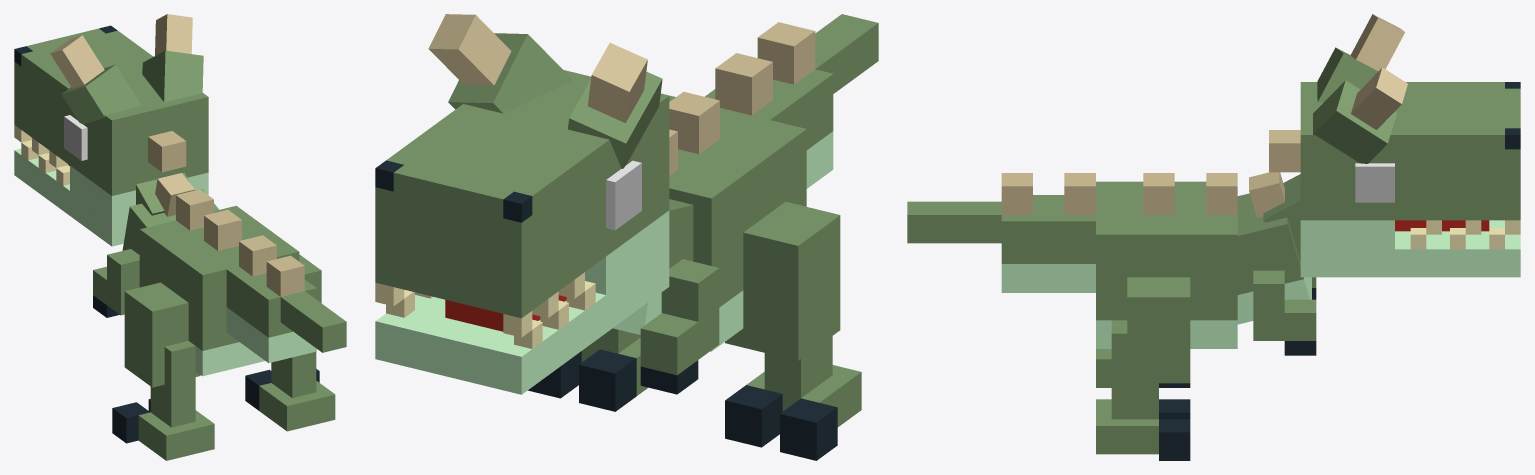
File: carnotaurus.obj
3 views of the same model, side by side, from view 1: azimuth 30°, elevation 25°; view 2: azimuth 150°, elevation 25°; view 3: azimuth 270°, elevation 25° (orthographic). The views are drawn at different scales.
Visible parts, largest first — view 1: Head, LowerTorso, Tail, LeftUpperLeg, LeftFoot, RightFoot, LeftLowerLeg, LeftUpperArm, UpperTorso, RightLowerLeg, Head_decal1, RightUpperLeg; view 2: Head, LowerTorso, Tail, LeftUpperLeg, LeftFoot, LeftUpperArm, RightFoot, LeftLowerLeg, UpperTorso, Head_decal1, RightLowerLeg; view 3: Head, LowerTorso, Tail, RightUpperLeg, UpperTorso, RightFoot, RightUpperArm, RightLowerLeg, Head_decal2, LeftFoot.
Part boxes in pixels (bbox=[...]): Head: bbox=[14, 14, 208, 246]; LowerTorso: bbox=[139, 189, 299, 376]; Tail: bbox=[226, 235, 346, 363]; LeftUpperLeg: bbox=[124, 282, 200, 387]; LeftFoot: bbox=[112, 399, 214, 460]; RightFoot: bbox=[245, 369, 335, 431]; LeftLowerLeg: bbox=[150, 341, 195, 427]; LeftUpperArm: bbox=[93, 249, 139, 317]; UpperTorso: bbox=[122, 173, 219, 254]; RightLowerLeg: bbox=[271, 351, 316, 397]; Head_decal1: bbox=[64, 117, 81, 160]; RightUpperLeg: bbox=[299, 254, 321, 302]; Head: bbox=[375, 14, 669, 394]; LowerTorso: bbox=[661, 91, 806, 351]; Tail: bbox=[705, 14, 878, 188]; LeftUpperLeg: bbox=[725, 201, 840, 360]; LeftFoot: bbox=[725, 365, 861, 460]; LeftUpperArm: bbox=[640, 259, 719, 394]; RightFoot: bbox=[528, 337, 647, 411]; LeftLowerLeg: bbox=[764, 336, 832, 398]; UpperTorso: bbox=[613, 199, 693, 334]; Head_decal1: bbox=[615, 163, 641, 229]; RightLowerLeg: bbox=[588, 328, 640, 353]; Head: bbox=[1263, 14, 1520, 277]; LowerTorso: bbox=[1096, 173, 1237, 348]; Tail: bbox=[907, 173, 1095, 292]; RightUpperLeg: bbox=[1127, 277, 1190, 383]; UpperTorso: bbox=[1237, 172, 1311, 324]; RightFoot: bbox=[1096, 399, 1190, 460]; RightUpperArm: bbox=[1253, 270, 1316, 355]; RightLowerLeg: bbox=[1111, 320, 1158, 419]; Head_decal2: bbox=[1355, 166, 1394, 202]; LeftFoot: bbox=[1096, 349, 1190, 387].
Bounding box in the file's own units: 10 × 16.04 × 24.38.
